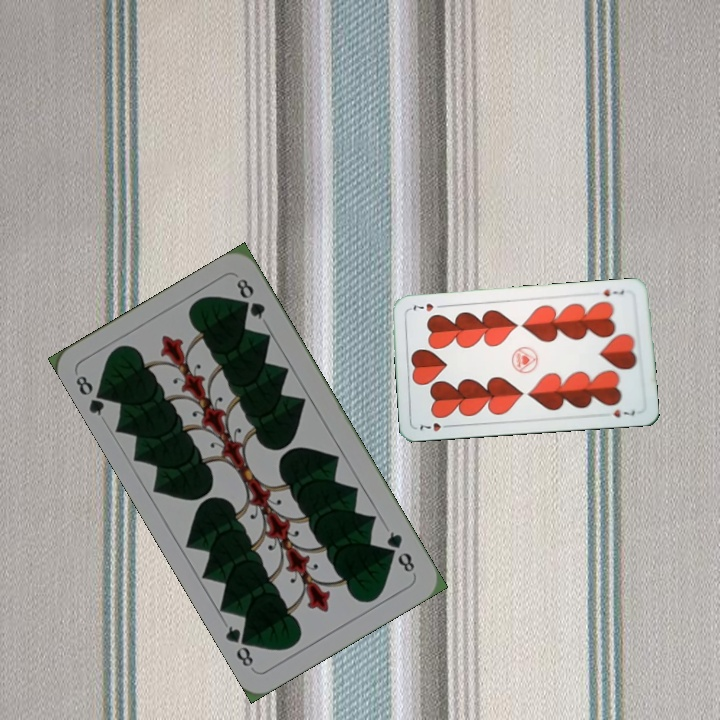G8: (71, 371, 112, 419), (382, 527, 418, 575)
H7: (416, 418, 454, 434), (599, 284, 626, 299)
